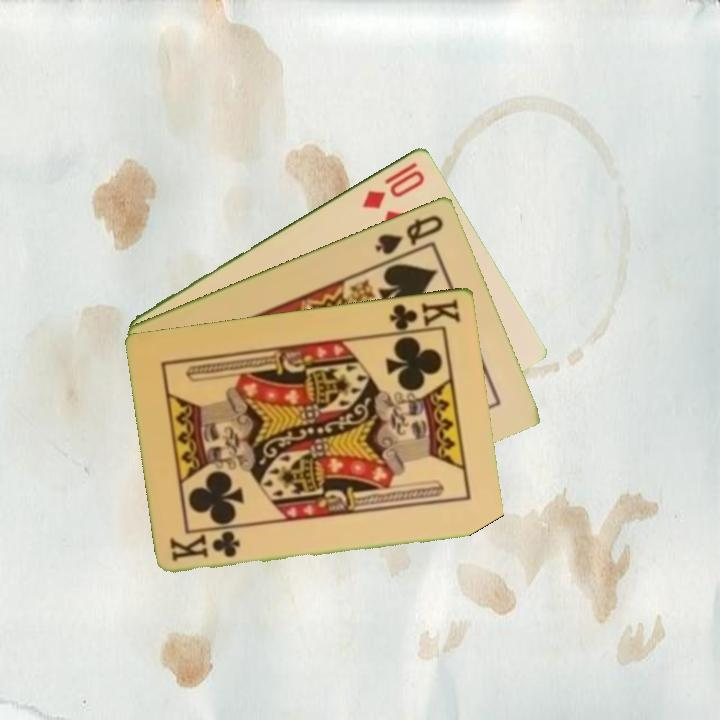10d: (359, 158, 428, 212)
Kc: (383, 295, 464, 336), (167, 530, 244, 564)
Qs: (371, 211, 447, 257)
